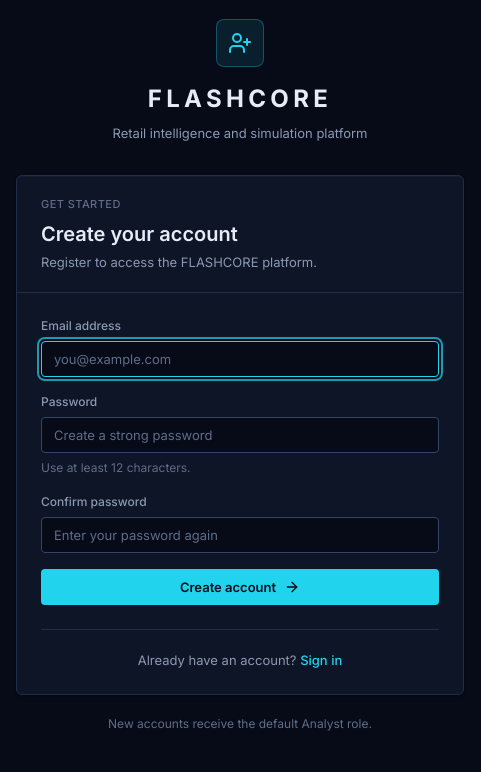
Test: SignupPage › shows a duplicate-account server error
Type "analyst@flashcore.test" into the field labelled "Email address".
click(240, 359); type("analyst@flashcore.test")  # box [41,341,439,377]
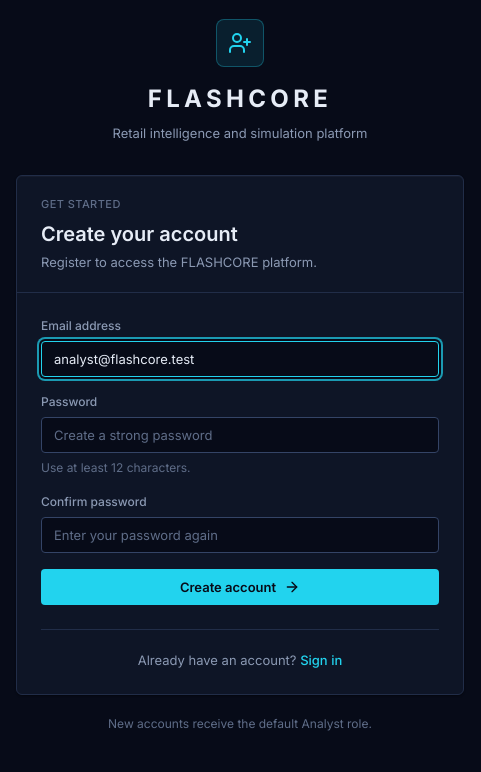
Type "correct-password-123" into the password field labelled "Password".
click(240, 435); type("correct-password-123")  # box [41,417,439,453]
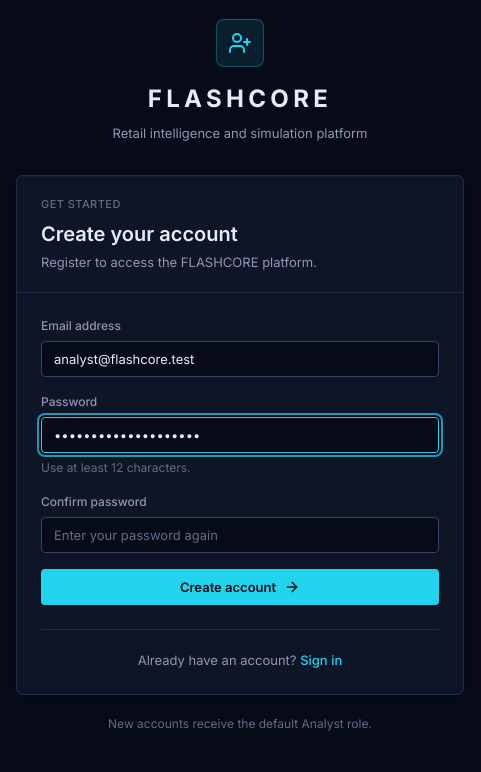
Type "correct-password-123" into the password field labelled "Confirm password".
click(240, 535); type("correct-password-123")  # box [41,517,439,553]
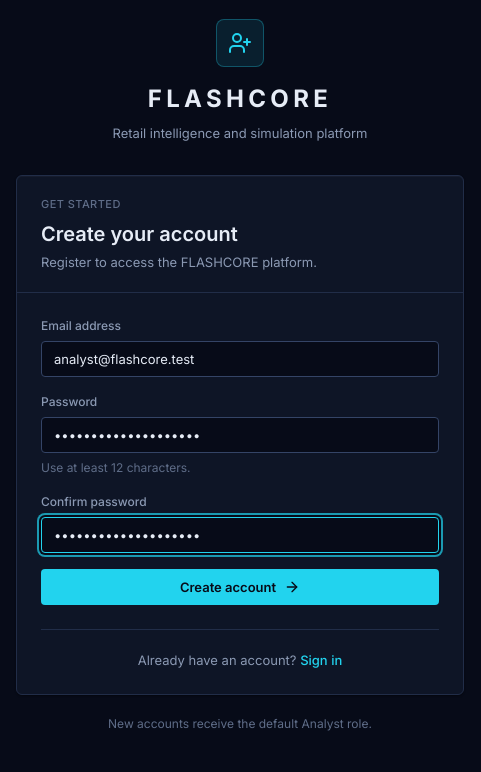
Click the button "Create account".
click(240, 587)  # box [41,569,439,605]
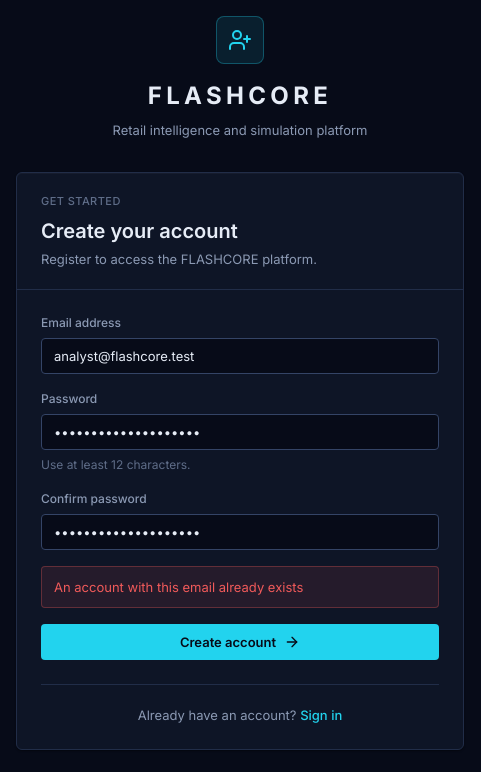
Expected: the message reads "An account with this email already exists", [54,579,303,595]
